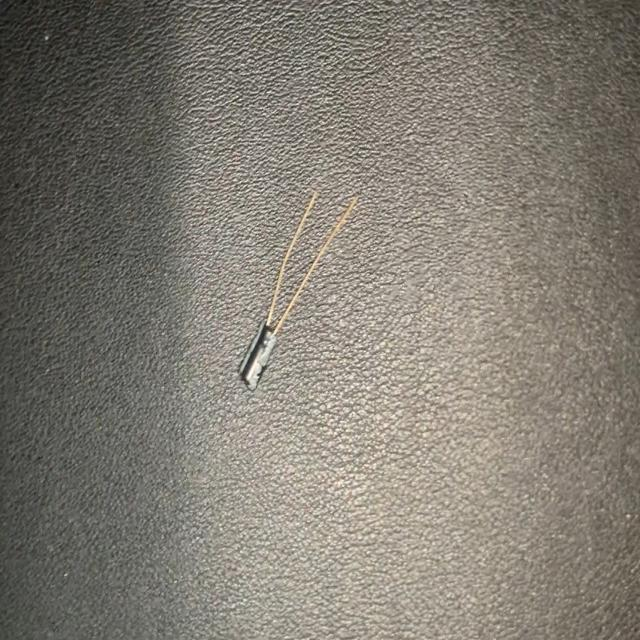capacitor: (234, 184, 363, 399)
